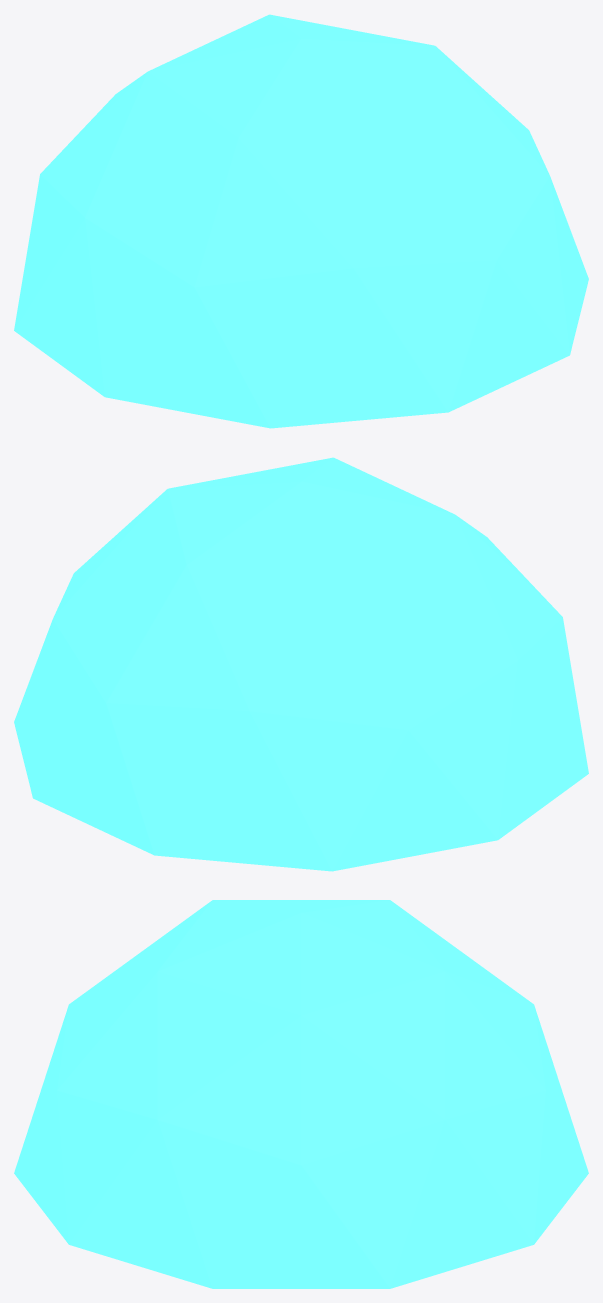
Rendered from taki1.dae.
The picture shows the model from 3 angles, top to bottom: view 1: azimuth 30°, elevation 25°; view 2: azimuth 150°, elevation 25°; view 3: azimuth 270°, elevation 25°; orthographic projection. The views are drawn at different scales.
Parts seen in each view (by area): view 1: Sky1; view 2: Sky1; view 3: Sky1.
Part boxes in pixels (x1,y1,x2,y2): Sky1: [14, 14, 588, 428]; Sky1: [14, 457, 588, 871]; Sky1: [14, 900, 588, 1288].
Bounding box in the file's own units: 102 × 108 × 53.81.
